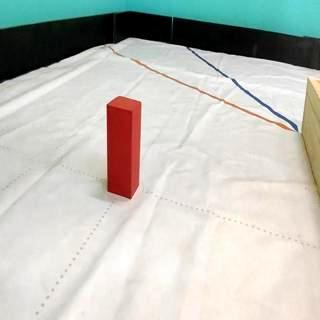redbox: (106, 95, 142, 199)
